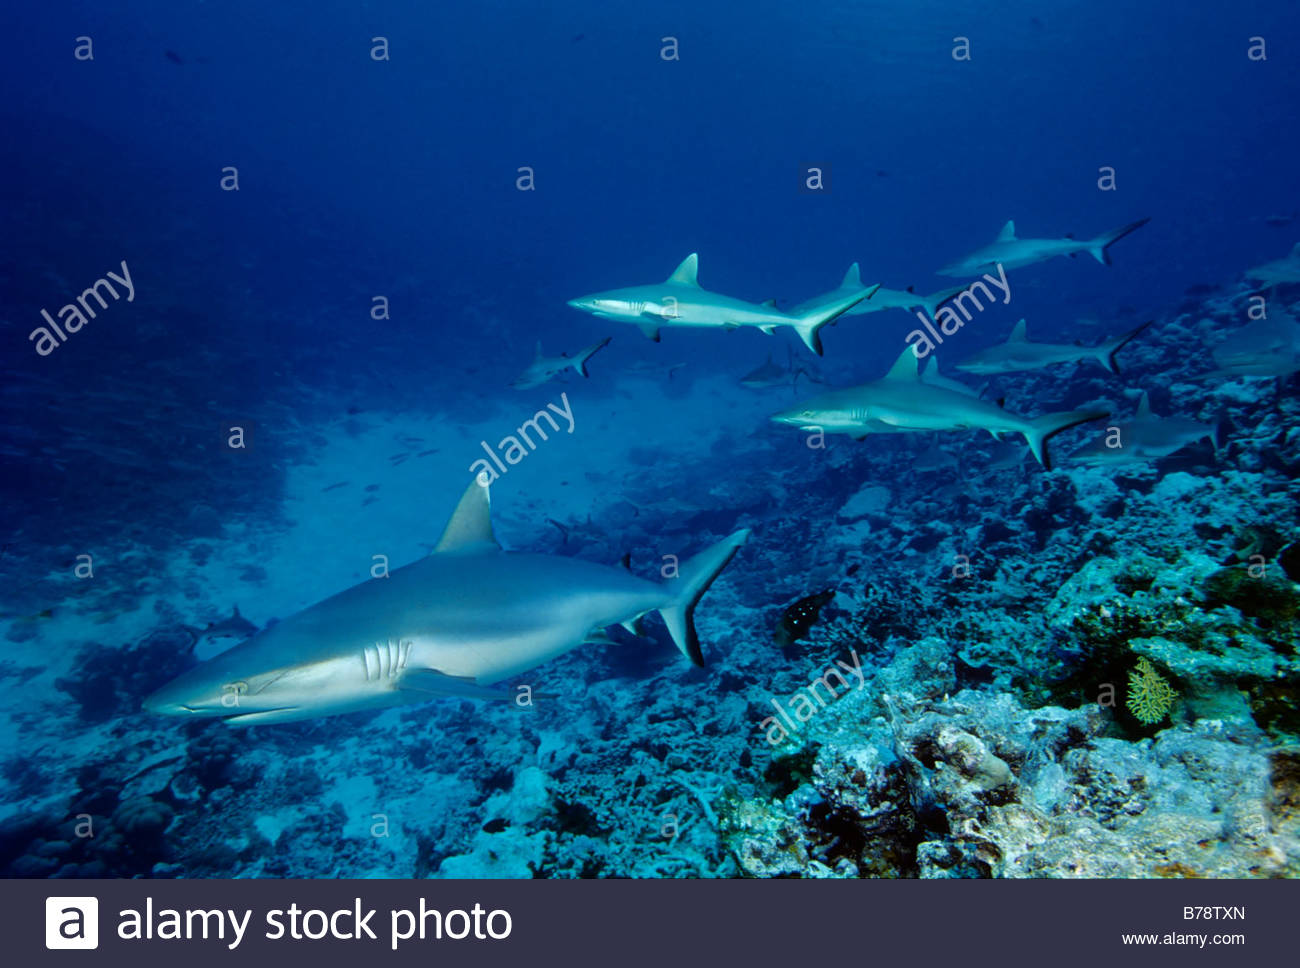Carcharhinus_amblyrhynchos: (94, 462, 772, 747), (767, 357, 1103, 466), (576, 255, 855, 366), (929, 193, 1167, 271)
